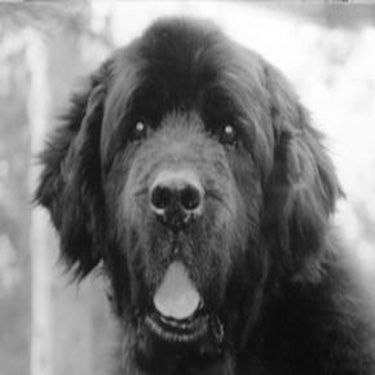dog: (19, 4, 372, 371)
